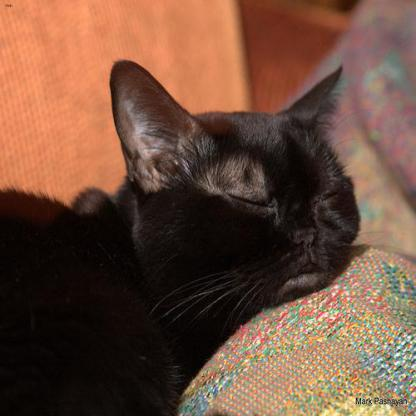cat: (0, 60, 361, 416)
